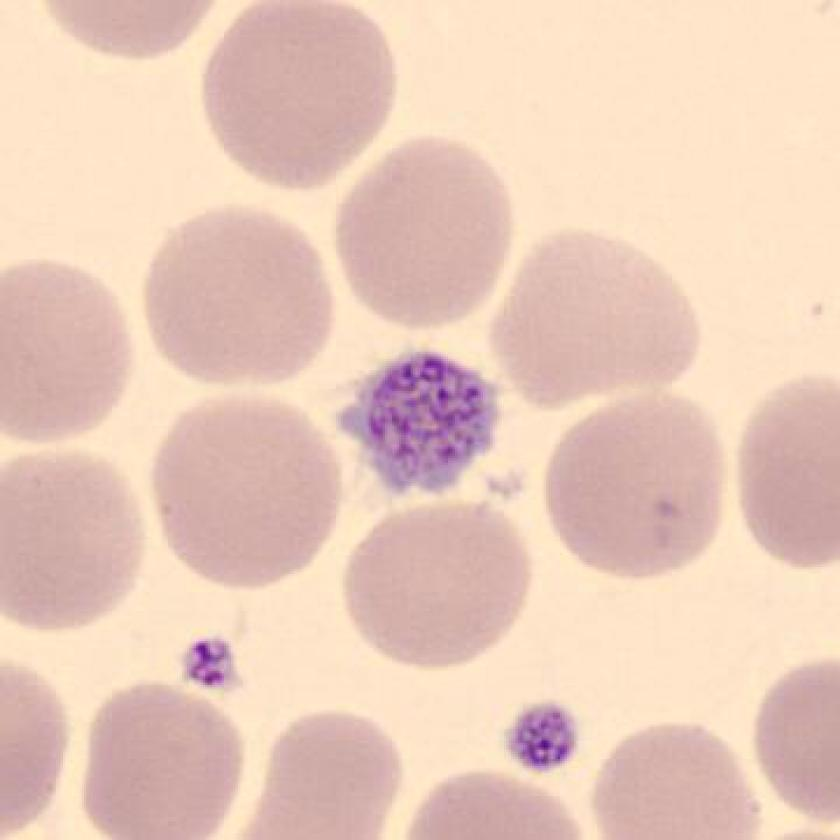platelets: (323, 344, 519, 513), (491, 688, 591, 788), (167, 628, 258, 707)
